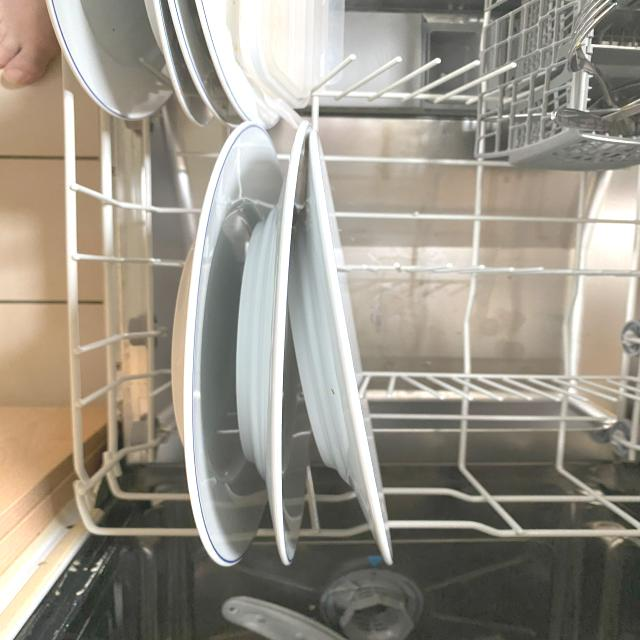clutery_bin: (493, 4, 638, 151)
empty_slot: (372, 158, 633, 534)
